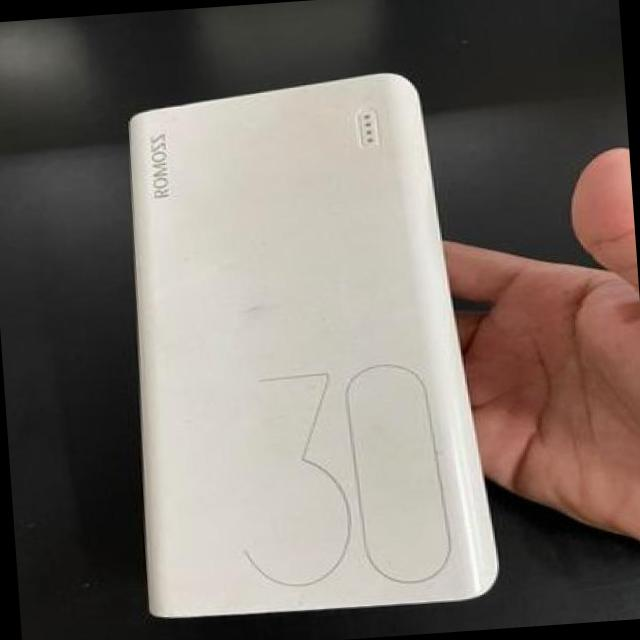portable-charger: (104, 55, 506, 632)
